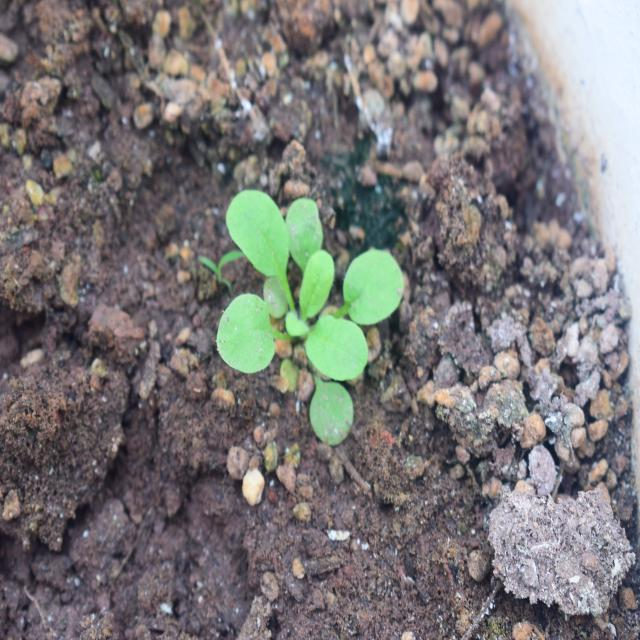Shepherd_Purse: (206, 176, 405, 459)
